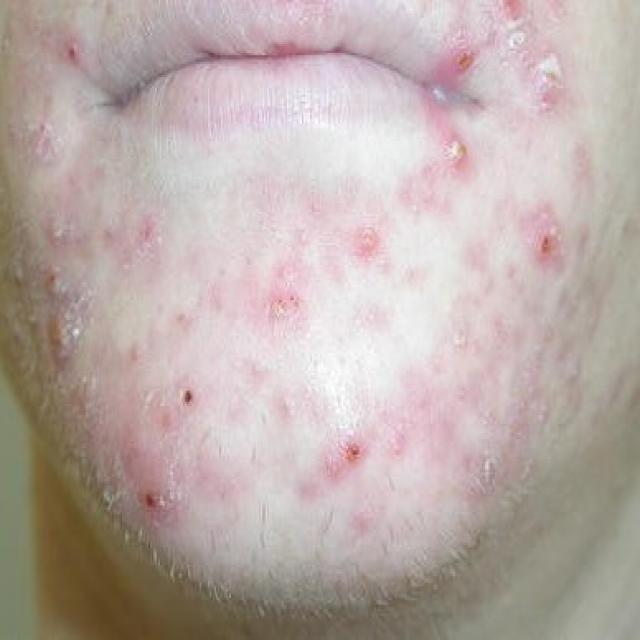Acne: (418, 380, 512, 483), (449, 304, 556, 376), (496, 0, 570, 99), (46, 204, 162, 259), (32, 264, 85, 376), (504, 190, 568, 274), (65, 380, 121, 468), (197, 272, 271, 338), (134, 442, 176, 528), (26, 106, 74, 164), (270, 229, 316, 276), (273, 279, 308, 337), (330, 432, 371, 476), (441, 36, 478, 83), (396, 166, 436, 208), (430, 128, 468, 172), (466, 240, 504, 284), (351, 213, 381, 264), (174, 382, 204, 430), (60, 28, 94, 62), (162, 302, 194, 336), (580, 143, 598, 190), (392, 414, 406, 464), (354, 509, 378, 536), (120, 336, 140, 361)
